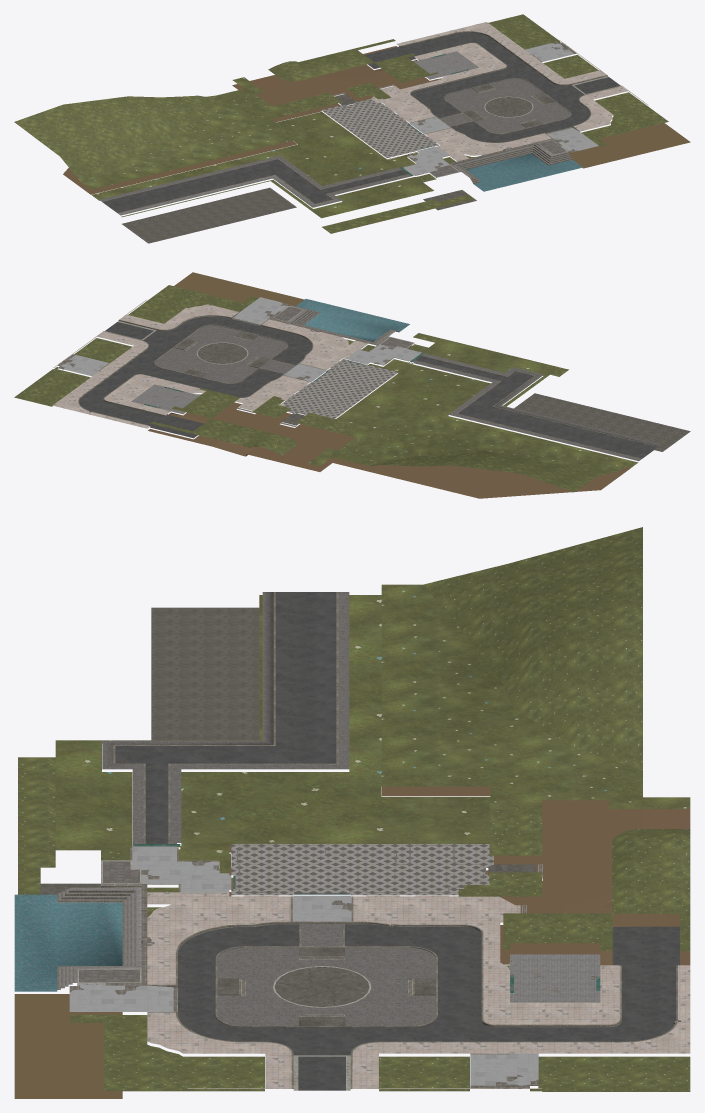
File: Hotel_STR_Base.fbx
3 renders of one model, top to bottom at view 1: azimuth 30°, elevation 25°; view 2: azimuth 150°, elevation 25°; view 3: azimuth 270°, elevation 25°, orthographic. The views are drawn at different scales.
Parts seen in each view (by area): view 1: Hotel_STR_Base; view 2: Hotel_STR_Base; view 3: Hotel_STR_Base.
Part boxes in pixels (box(x1,y1,x2,y2)): Hotel_STR_Base: box(14, 14, 690, 243); Hotel_STR_Base: box(14, 272, 690, 498); Hotel_STR_Base: box(14, 527, 690, 1098).
Size of the model in its own units: 12680 by 1170 by 7120.
Materials: 14 (14 with a texture image).
